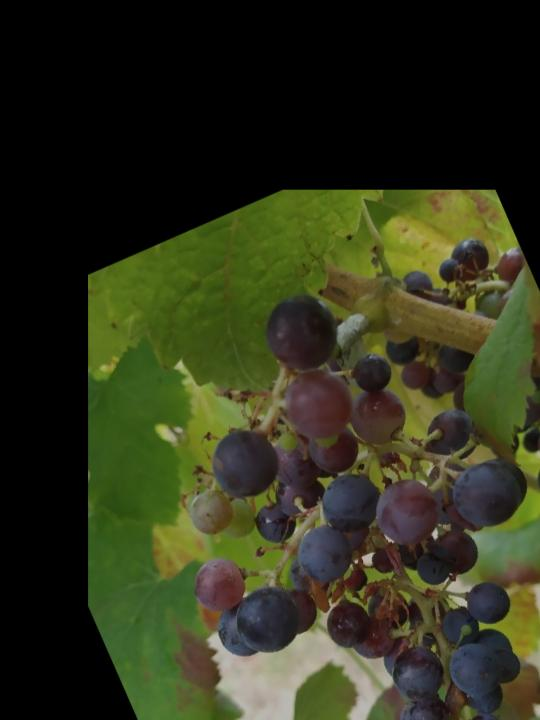grape: (89, 233, 540, 720)
